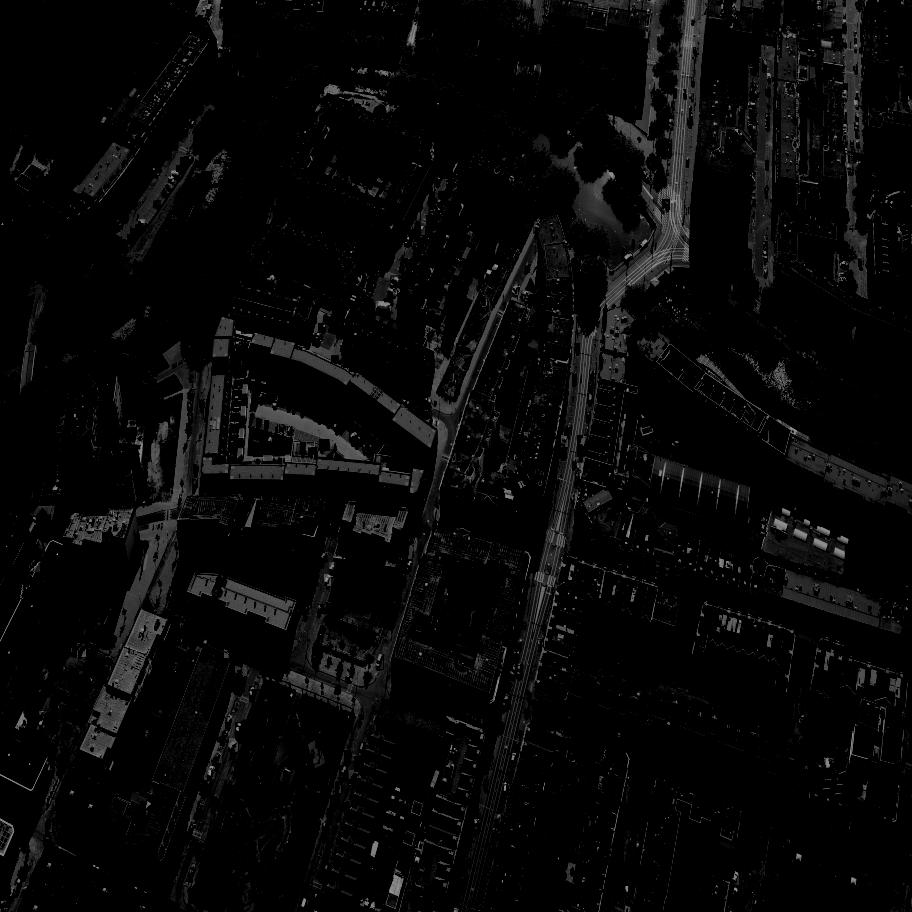small-vehicle: (794, 631, 820, 652), (577, 436, 589, 457), (534, 214, 546, 234), (349, 770, 363, 786), (200, 780, 213, 796), (389, 275, 403, 289), (775, 813, 790, 826), (376, 301, 392, 313), (39, 711, 49, 729), (747, 871, 756, 891), (623, 812, 634, 828), (729, 886, 740, 902), (462, 859, 472, 876), (111, 217, 124, 230), (100, 857, 112, 871), (228, 739, 240, 753), (813, 832, 827, 844), (354, 757, 365, 772), (760, 513, 767, 536), (501, 694, 511, 710), (339, 765, 349, 781), (77, 643, 88, 657), (57, 668, 68, 682), (77, 677, 88, 691), (219, 730, 230, 744), (318, 440, 332, 451), (330, 795, 341, 809), (29, 560, 41, 572), (352, 435, 364, 447), (630, 753, 642, 765), (824, 755, 833, 771), (120, 870, 133, 881), (212, 751, 223, 764), (72, 675, 83, 688), (387, 287, 400, 298), (645, 326, 656, 339), (797, 716, 808, 729), (563, 728, 577, 738), (833, 727, 843, 741), (359, 743, 368, 758), (458, 876, 467, 891), (616, 858, 625, 873), (732, 871, 741, 886), (90, 852, 102, 863), (302, 605, 313, 617), (65, 840, 78, 850), (272, 395, 282, 408), (404, 559, 414, 572), (494, 814, 504, 827), (630, 856, 638, 872), (510, 664, 519, 678), (187, 822, 196, 836), (344, 750, 353, 764), (323, 865, 332, 879), (129, 229, 140, 240), (349, 362, 360, 373), (420, 408, 431, 419), (389, 282, 400, 293), (45, 818, 53, 833), (236, 723, 244, 738), (195, 802, 203, 817), (376, 655, 384, 670), (735, 859, 745, 871), (629, 799, 637, 814), (666, 431, 676, 443), (72, 641, 81, 654), (613, 873, 622, 886), (762, 712, 771, 725), (78, 693, 86, 707), (828, 726, 836, 740), (36, 550, 46, 561), (237, 681, 247, 692), (43, 836, 54, 846), (326, 416, 336, 427), (245, 246, 255, 257), (839, 255, 850, 265), (418, 553, 427, 565), (203, 639, 212, 651), (258, 392, 267, 404), (708, 685, 714, 703), (517, 664, 524, 679), (625, 886, 632, 901), (207, 767, 215, 780), (195, 842, 203, 855), (240, 255, 248, 268), (801, 830, 814, 838), (862, 854, 875, 862), (167, 175, 177, 185), (340, 358, 350, 368), (350, 433, 360, 443), (563, 238, 573, 248), (661, 200, 671, 210), (329, 563, 338, 574), (324, 575, 333, 586), (512, 284, 521, 295), (125, 234, 136, 243), (670, 440, 681, 449), (559, 448, 568, 459), (789, 821, 800, 830), (336, 780, 343, 794), (634, 843, 641, 857), (226, 715, 234, 727), (286, 399, 294, 411), (562, 435, 570, 447), (564, 425, 572, 437), (836, 842, 848, 850), (249, 686, 256, 699), (492, 828, 499, 841), (366, 445, 375, 455), (362, 442, 371, 452), (405, 237, 414, 247), (587, 296, 596, 306), (224, 649, 232, 660), (377, 377, 388, 385), (313, 409, 321, 420), (320, 553, 328, 564), (335, 421, 343, 432), (400, 400, 411, 408), (26, 571, 32, 585), (106, 656, 112, 670), (192, 477, 199, 489), (318, 411, 325, 423), (406, 390, 418, 397), (814, 749, 820, 763), (59, 451, 68, 460), (161, 188, 170, 197), (138, 219, 147, 228), (312, 337, 321, 346), (331, 355, 340, 364), (434, 199, 443, 208), (405, 259, 414, 268), (186, 118, 196, 126), (120, 213, 130, 221), (241, 326, 251, 334), (322, 314, 332, 322), (396, 386, 406, 394), (637, 455, 645, 465), (643, 172, 651, 182), (528, 294, 536, 304), (905, 709, 911, 722), (229, 652, 236, 663), (234, 269, 241, 280), (523, 291, 530, 302), (587, 393, 594, 404), (762, 811, 773, 818), (323, 824, 328, 839), (100, 239, 108, 248), (170, 141, 179, 149), (212, 797, 218, 809), (164, 184, 173, 192), (382, 43, 391, 51), (367, 372, 376, 380), (301, 442, 307, 454), (332, 234, 341, 242), (364, 248, 373, 256), (409, 229, 417, 238), (511, 754, 517, 766), (749, 108, 758, 116), (758, 710, 764, 722), (832, 758, 838, 770), (864, 220, 873, 228), (55, 475, 65, 482), (35, 458, 45, 465), (20, 584, 25, 598), (187, 402, 194, 412), (328, 808, 333, 822), (343, 240, 353, 247), (842, 90, 849, 100), (644, 454, 650, 465), (762, 59, 768, 70), (315, 895, 320, 908), (169, 2, 177, 10), (195, 106, 203, 114), (180, 157, 188, 165), (152, 169, 160, 177), (154, 165, 162, 173), (154, 200, 162, 208), (293, 217, 301, 225), (438, 192, 446, 200), (520, 291, 528, 299), (857, 176, 865, 184), (37, 452, 46, 459), (59, 458, 68, 465), (197, 103, 206, 110), (176, 166, 185, 173), (199, 400, 206, 409), (135, 225, 144, 232), (308, 448, 317, 455), (355, 244, 364, 251), (361, 293, 370, 300), (366, 285, 375, 292), (426, 216, 433, 225), (641, 324, 648, 333), (851, 848, 860, 855), (188, 413, 194, 423), (436, 177, 442, 187), (738, 842, 743, 854), (474, 819, 479, 831), (517, 640, 523, 650), (36, 464, 44, 471), (172, 171, 180, 178), (318, 323, 325, 331), (424, 399, 432, 406), (40, 436, 48, 443), (749, 118, 757, 125), (526, 262, 531, 273), (736, 701, 741, 712), (55, 480, 64, 486), (190, 390, 196, 399), (280, 425, 286, 434), (363, 289, 372, 295), (439, 170, 445, 179), (657, 34, 663, 43), (666, 148, 672, 157), (765, 114, 771, 123), (748, 125, 757, 131), (702, 689, 708, 698), (648, 662, 652, 675), (629, 872, 633, 885), (301, 405, 306, 415), (318, 603, 323, 613), (538, 638, 543, 648), (589, 382, 594, 392), (763, 251, 768, 261), (859, 257, 864, 267), (38, 446, 46, 452), (32, 483, 40, 489), (54, 493, 62, 499), (54, 488, 62, 494), (251, 31, 259, 37), (840, 278, 848, 284), (305, 884, 309, 896), (303, 221, 311, 227), (490, 843, 494, 855), (504, 782, 508, 794), (625, 656, 629, 668), (575, 344, 581, 352), (842, 39, 848, 47), (763, 241, 768, 250), (367, 280, 376, 285), (415, 222, 420, 231), (673, 88, 678, 97), (688, 118, 693, 127), (752, 196, 757, 205), (855, 122, 860, 131), (848, 165, 853, 174), (182, 634, 186, 645), (576, 471, 580, 482), (619, 654, 623, 665), (573, 373, 577, 384), (58, 464, 65, 470), (244, 30, 251, 36), (360, 368, 366, 375), (370, 275, 377, 281), (750, 88, 757, 94), (749, 175, 755, 182), (841, 262, 848, 268), (186, 424, 190, 434), (178, 632, 182, 642), (355, 41, 363, 46), (344, 802, 348, 812), (228, 288, 232, 298), (402, 575, 406, 585), (765, 160, 770, 168), (765, 122, 770, 130), (855, 112, 860, 120), (844, 124, 849, 132), (322, 35, 328, 41), (265, 420, 269, 429), (314, 226, 320, 232), (748, 102, 754, 108), (515, 651, 518, 663), (752, 55, 758, 61), (859, 213, 863, 222), (885, 364, 891, 370), (181, 128, 188, 133), (332, 40, 339, 45), (366, 41, 373, 46), (314, 333, 321, 338), (372, 271, 379, 276), (385, 298, 392, 303), (764, 188, 769, 195), (842, 24, 847, 31), (755, 40, 762, 45), (841, 248, 848, 253), (288, 427, 292, 435), (844, 83, 848, 91), (844, 139, 848, 147), (850, 140, 854, 148), (839, 274, 847, 278), (257, 418, 260, 428), (292, 401, 295, 411), (572, 493, 575, 503), (751, 83, 756, 89), (853, 31, 858, 37), (807, 720, 810, 730), (275, 425, 279, 432), (587, 412, 591, 419), (856, 139, 860, 146), (889, 376, 896, 380), (854, 100, 858, 107), (573, 457, 576, 466), (104, 235, 109, 240), (299, 342, 304, 347), (422, 227, 425, 235), (690, 93, 694, 99), (639, 320, 642, 328), (669, 120, 672, 128), (686, 157, 689, 165), (766, 87, 769, 95), (691, 16, 695, 22), (749, 122, 755, 126), (750, 68, 756, 72), (751, 64, 757, 68), (764, 267, 767, 275), (855, 91, 859, 97), (671, 114, 674, 121), (854, 36, 857, 43), (590, 371, 593, 378), (655, 665, 657, 675), (194, 465, 196, 474), (767, 73, 770, 79), (671, 101, 674, 107), (694, 47, 697, 53), (578, 464, 580, 472), (668, 140, 671, 145), (843, 13, 846, 18), (854, 45, 857, 50), (844, 132, 847, 137), (844, 110, 847, 115), (692, 77, 694, 84), (690, 113, 692, 119), (843, 19, 845, 25), (733, 4, 735, 10), (690, 106, 692, 111), (854, 65, 856, 70), (675, 75, 676, 81), (684, 90, 685, 96), (856, 131, 857, 136), (845, 118, 845, 123)
